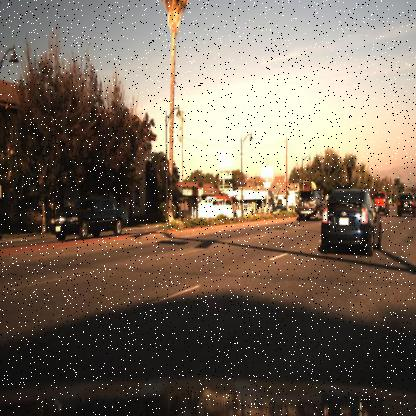car: (319, 184, 382, 256), (49, 195, 129, 242), (293, 184, 327, 221), (396, 187, 414, 218), (268, 201, 292, 219)
